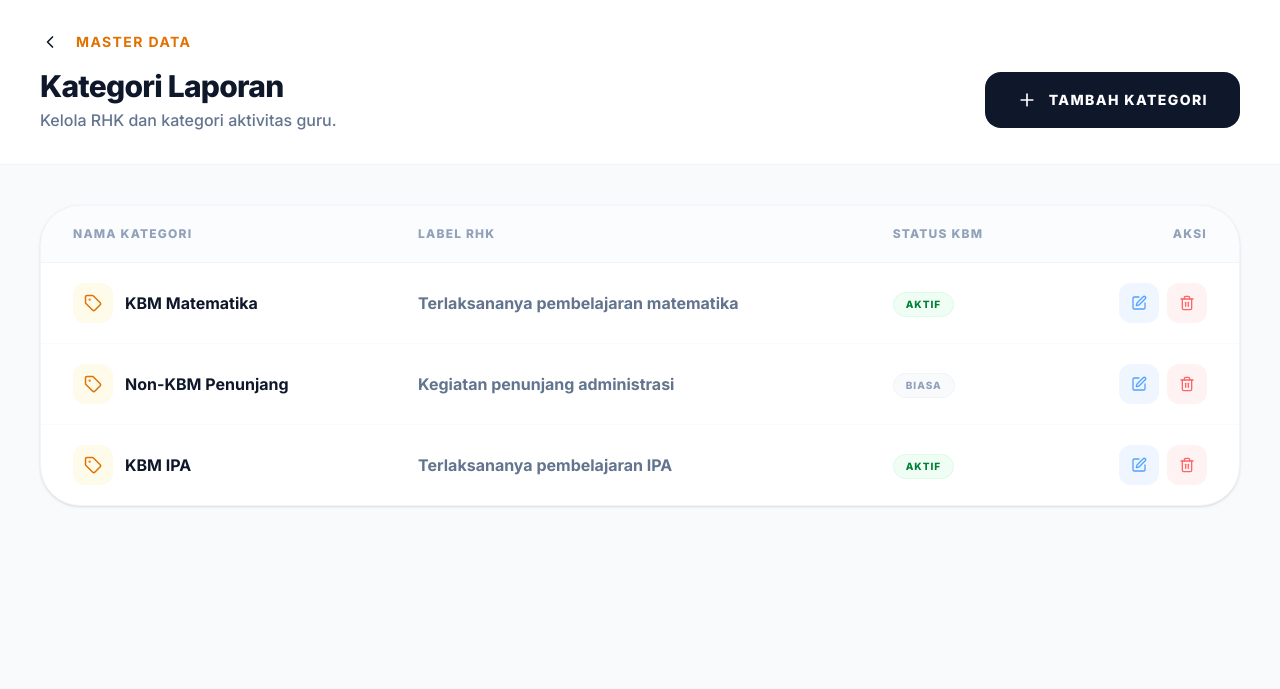
Scenario: AdminCategoriesClient › should close add form with X button
Click the button "Tambah Kategori". click: x=1112, y=100
box: [985,72,1240,128]
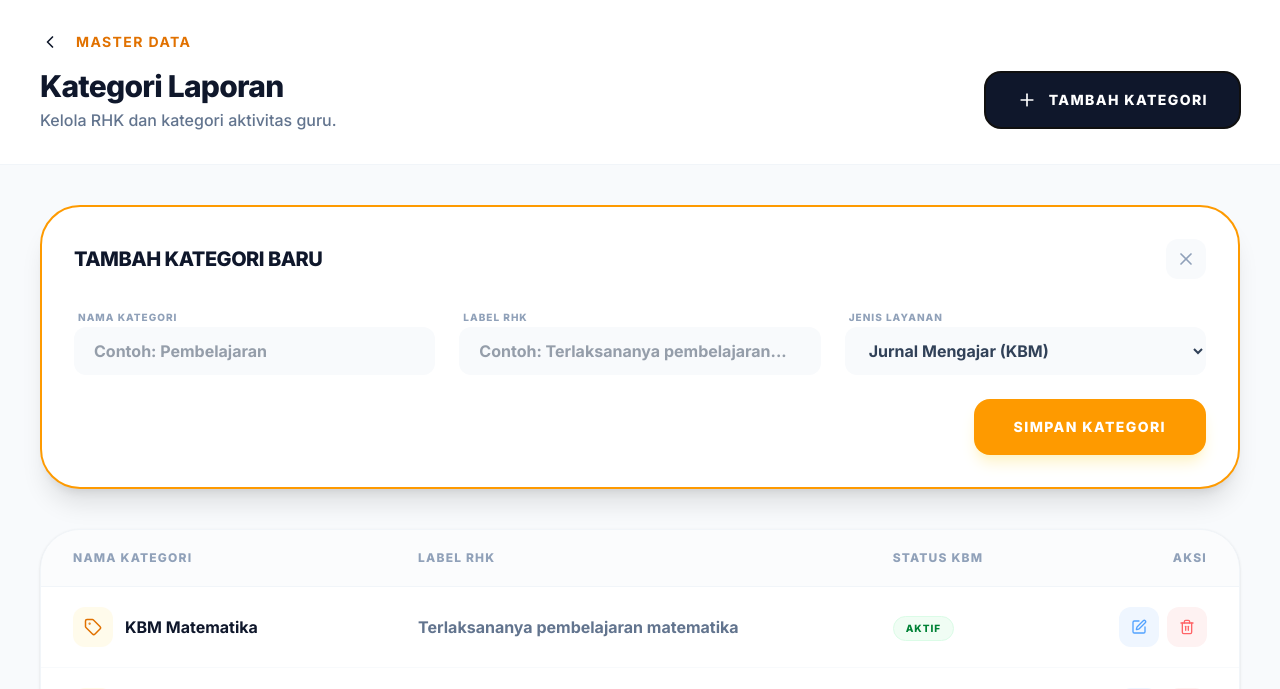
Result: the heading "Tambah Kategori Baru" is shown at [74,245,322,273]
Click the 2nd button. click: x=1186, y=259
box: [1166,239,1206,279]
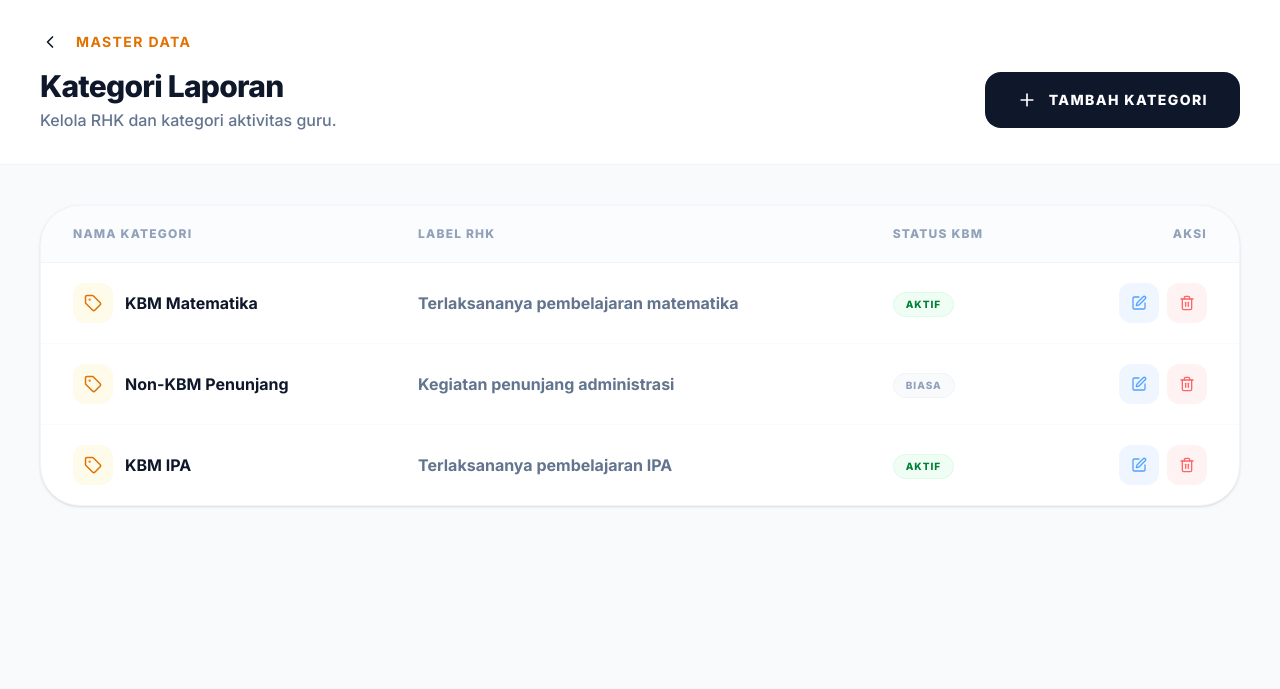
Result: the heading "Tambah Kategori Baru" is gone
